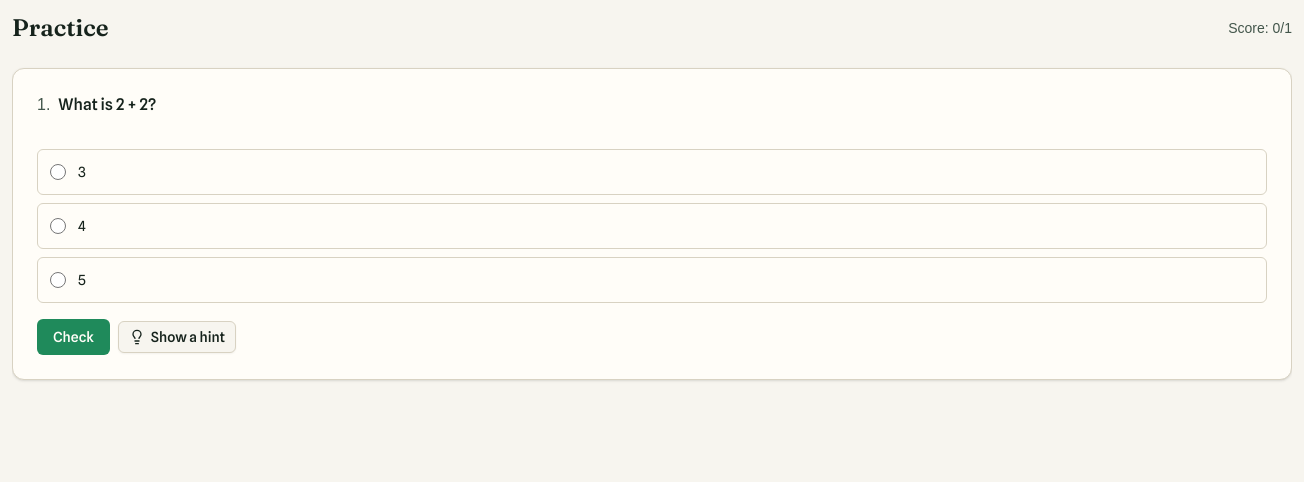
Scenario: PracticeSet › reveals a hint on request, one at a time
Expected: the text "Count on your fingers." is not shown
Click the button "Show a hint" at x=177, y=337, box [118, 321, 236, 353]
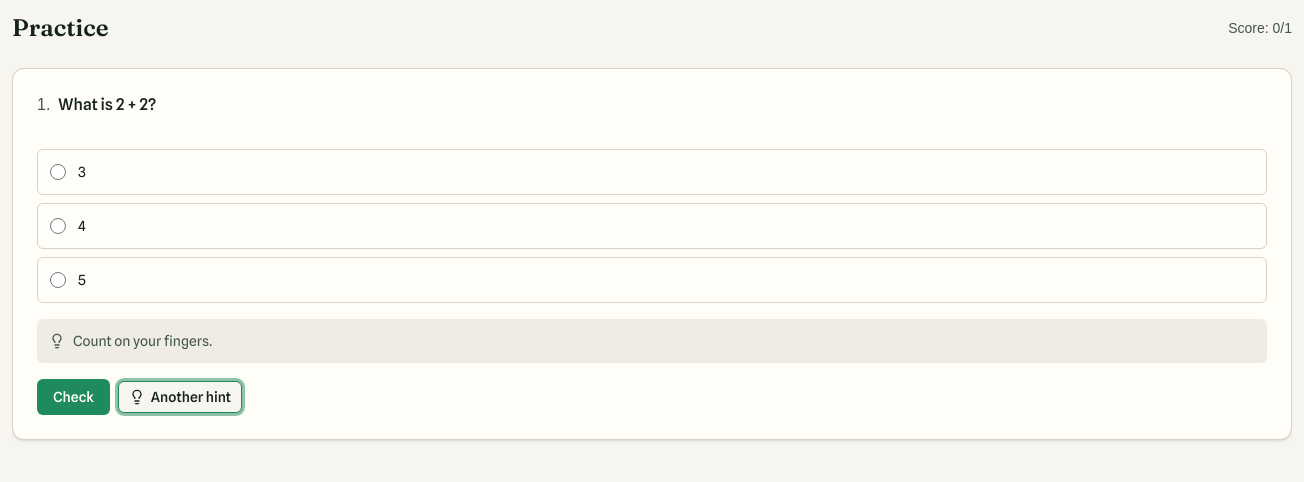
Expected: the text "It is even." is not shown
Expected: the text "Count on your fingers." is shown, [73, 331, 212, 351]
Click the button "Another hint" at x=180, y=397, box [118, 381, 242, 413]
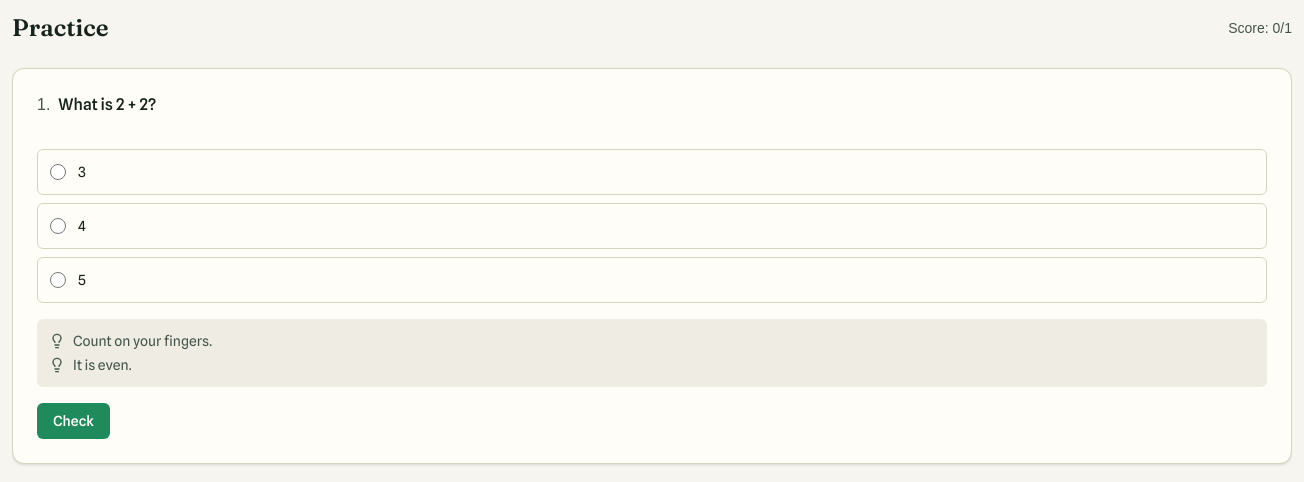
Expected: the text "It is even." is shown, [73, 355, 132, 375]
